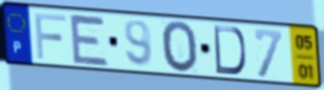7: (252, 27, 286, 80)
9: (122, 19, 154, 69)
D: (212, 24, 248, 77)
E: (67, 12, 112, 69)
F: (32, 11, 68, 61)
O: (160, 19, 200, 75)
